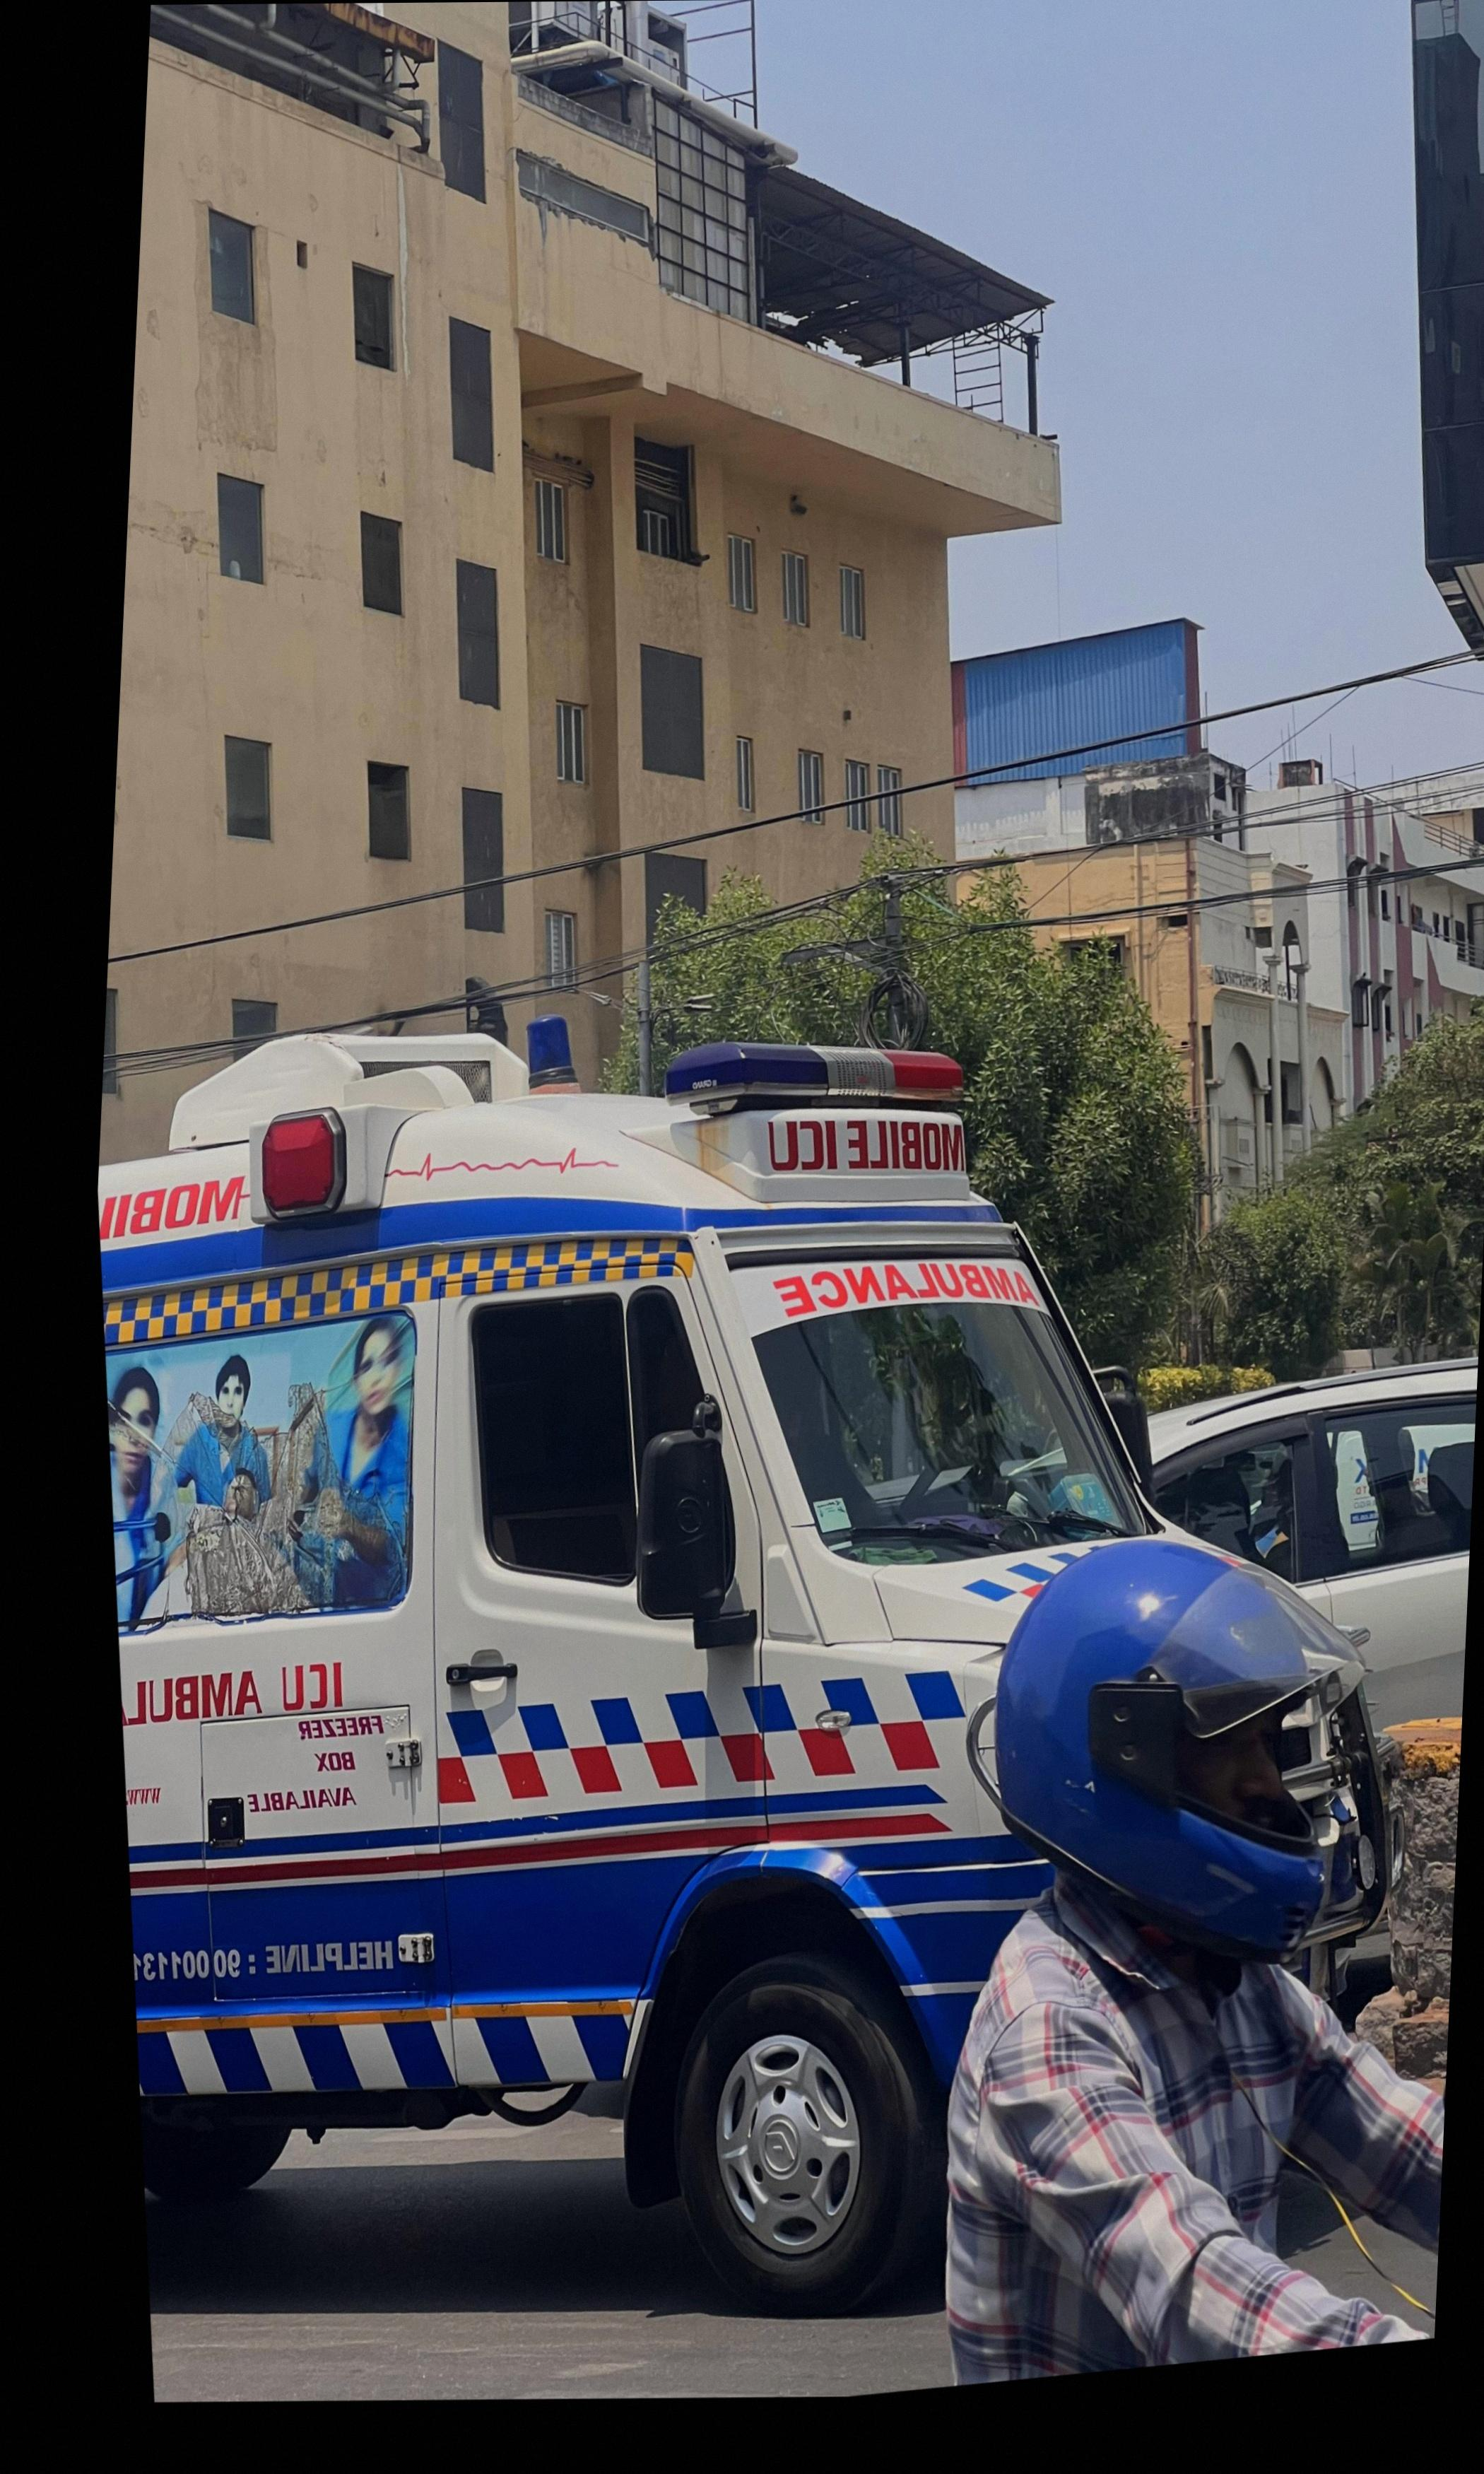ambulance: (83, 1006, 1148, 2264)
